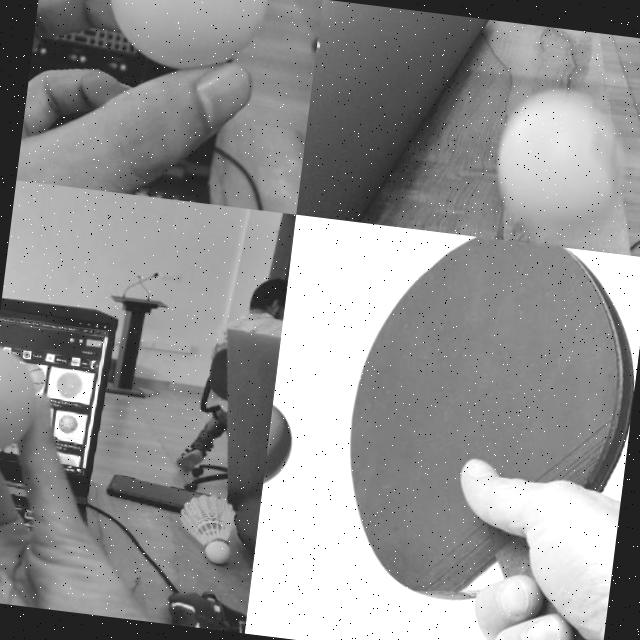ping-pong-ball: (488, 81, 626, 242), (98, 0, 268, 76), (0, 342, 39, 457), (260, 397, 294, 489)
